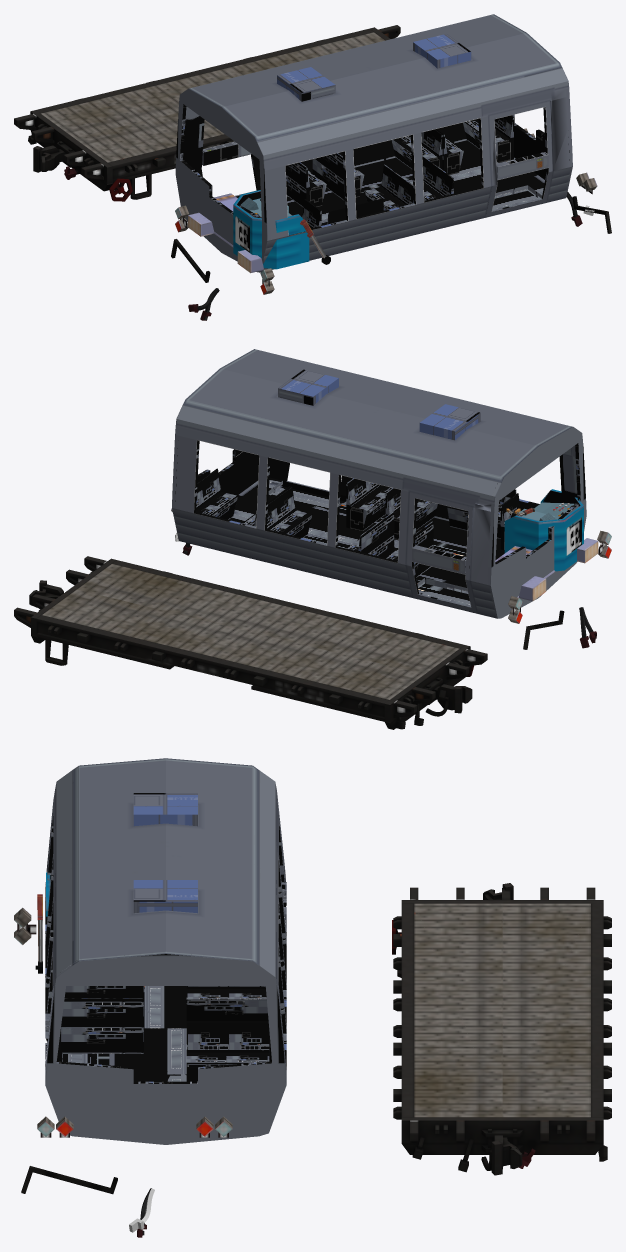
Rendered from monorail_head.mtl.obj.
The picture shows the model from 3 angles, top to bottom: view 1: azimuth 30°, elevation 25°; view 2: azimuth 150°, elevation 25°; view 3: azimuth 270°, elevation 25°; orthographic projection. The views are drawn at different scales.
Parts seen in each view (by area): view 1: train.003, FRAME_gept, Seat, FRAME_control_gept, Seat.001, train.004, train.001, Fary, train.002; view 2: train.003, FRAME_gept, Seat, Seat.001, FRAME_control_gept, train.002, train.001, Fary, train.004; view 3: train.003, FRAME_gept, Seat, Seat.001, train.001, Fary, COUPLER_ENGAGED_FRONT_1_TOGGLE_mvp_gept.
Boxes of the visible parts, x1,y1,x2,y2 form: train.003: [175, 14, 572, 272]; FRAME_gept: [14, 25, 400, 201]; Seat: [285, 115, 513, 207]; FRAME_control_gept: [214, 190, 309, 269]; Seat.001: [321, 155, 453, 225]; train.004: [485, 101, 552, 217]; train.001: [277, 34, 471, 101]; Fary: [178, 128, 597, 294]; train.002: [197, 117, 260, 197]; train.003: [172, 349, 586, 618]; FRAME_gept: [14, 556, 487, 729]; Seat: [196, 468, 433, 577]; Seat.001: [346, 478, 516, 540]; FRAME_control_gept: [495, 489, 583, 597]; train.002: [406, 492, 476, 613]; train.001: [278, 369, 480, 440]; Fary: [171, 508, 608, 623]; train.004: [282, 461, 347, 501]; train.003: [45, 758, 286, 1144]; FRAME_gept: [392, 883, 611, 1175]; Seat: [186, 986, 269, 1081]; Seat.001: [61, 963, 143, 1054]; train.001: [133, 793, 197, 913]; Fary: [14, 907, 232, 1137]; COUPLER_ENGAGED_FRONT_1_TOGGLE_mvp_gept: [21, 1166, 117, 1194].
Bounding box in the file's own units: 9.41 × 4.36 × 8.88.
6 materials, 4 textured.
